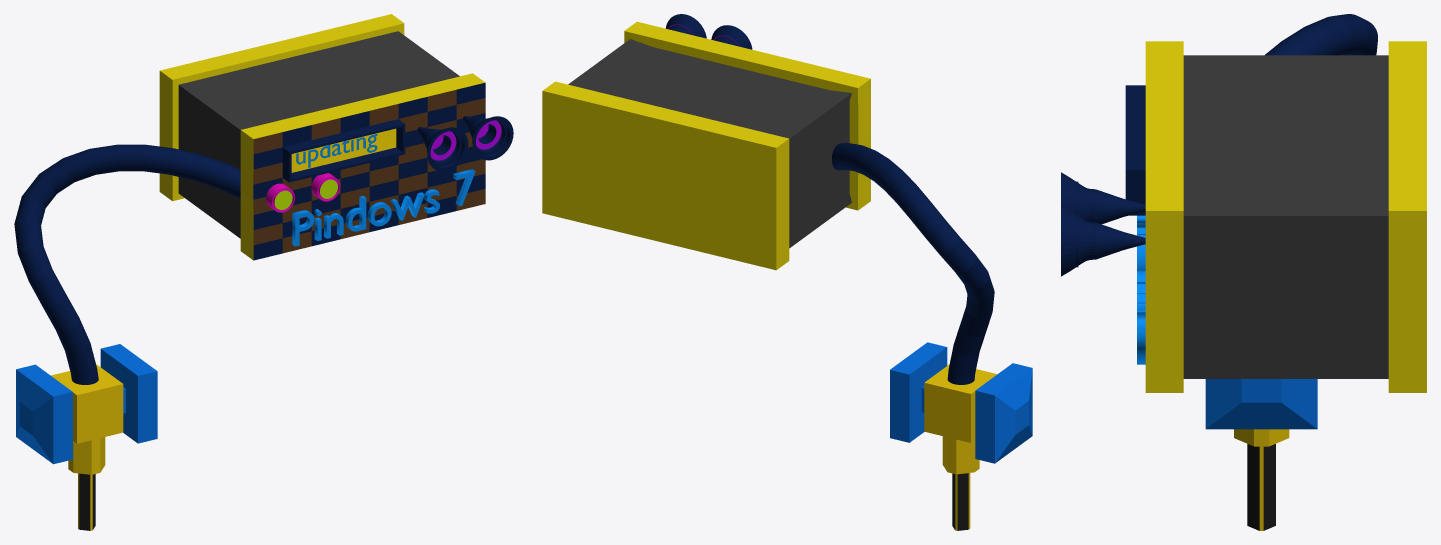
The model's file is Enemy.fbx.
The picture shows the model from 3 angles, left to right: view 1: azimuth 30°, elevation 25°; view 2: azimuth 150°, elevation 25°; view 3: azimuth 270°, elevation 25°; orthographic projection. The views are drawn at different scales.
Parts seen in each view (by area): view 1: Cube; view 2: Cube; view 3: Cube.
Part boxes in pixels (x1,y1,x2,y2): Cube: (14, 14, 513, 530); Cube: (542, 14, 1032, 530); Cube: (1061, 14, 1426, 530).
Bounding box in the file's own units: 363 × 317 × 182.
